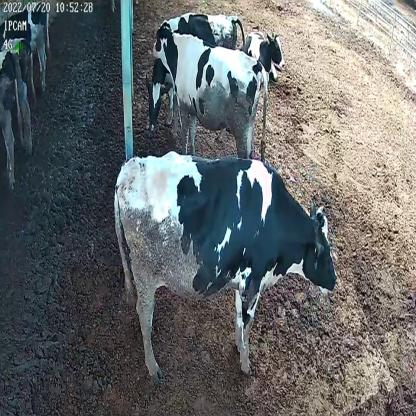cow: (114, 148, 338, 383), (151, 22, 270, 160), (143, 10, 248, 131), (243, 23, 288, 82)
